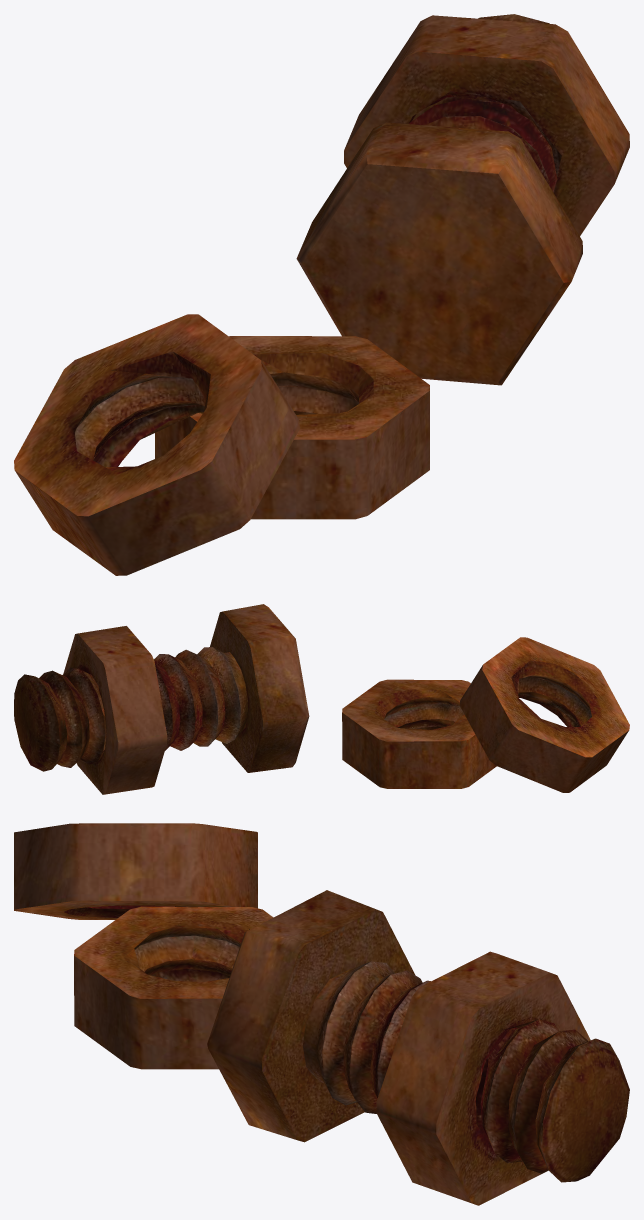
The model's file is bolts_nuts_01.glb.
3 views of the same model, one above another, from view 1: azimuth 30°, elevation 25°; view 2: azimuth 150°, elevation 25°; view 3: azimuth 270°, elevation 25° (orthographic). The views are drawn at different scales.
Visible parts, largest first — view 1: bolts_nuts_01; view 2: bolts_nuts_01; view 3: bolts_nuts_01.
Boxes of the visible parts, x1=… form: bolts_nuts_01: x1=14, y1=14, x2=629, y2=575; bolts_nuts_01: x1=14, y1=604, x2=629, y2=794; bolts_nuts_01: x1=14, y1=823, x2=629, y2=1205.
Size of what is drawn, in the model's own units: 0.1426 by 0.0396 by 0.1108.
Materials: 1 (1 with a texture image).
